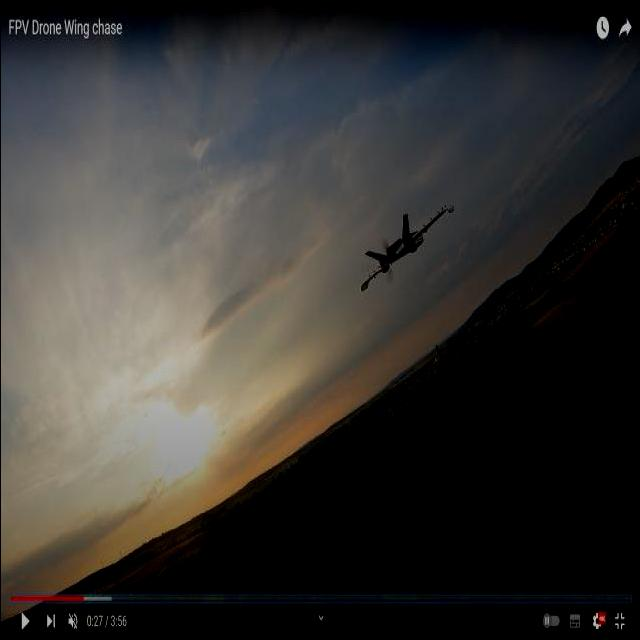plane: (357, 201, 454, 291)
